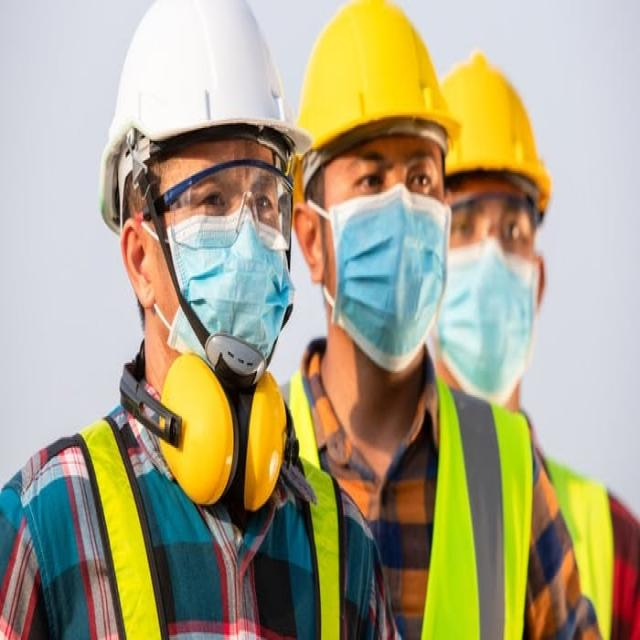goggles: (154, 150, 300, 263), (440, 199, 537, 261)
helmet: (103, 0, 294, 152), (299, 0, 449, 172), (434, 50, 560, 225)
no-goggles: (322, 146, 454, 209)
vest: (88, 384, 353, 640), (312, 368, 525, 640)
